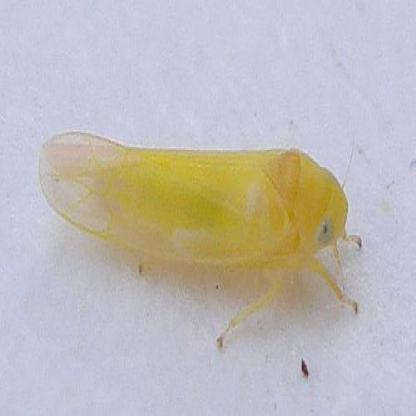green-leafhopper: (38, 136, 364, 346)
